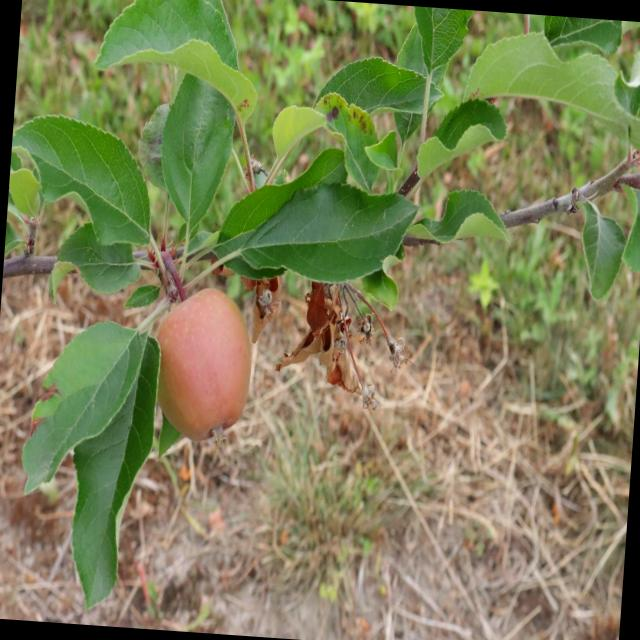-FireBlight-: (294, 275, 378, 393), (232, 266, 281, 332)
